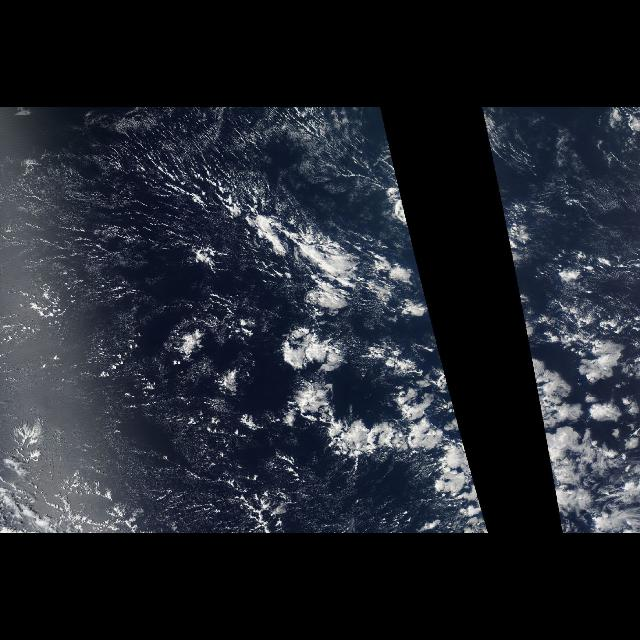Flower: (240, 199, 490, 533), (500, 199, 638, 533)
Sugar: (2, 108, 270, 492)
